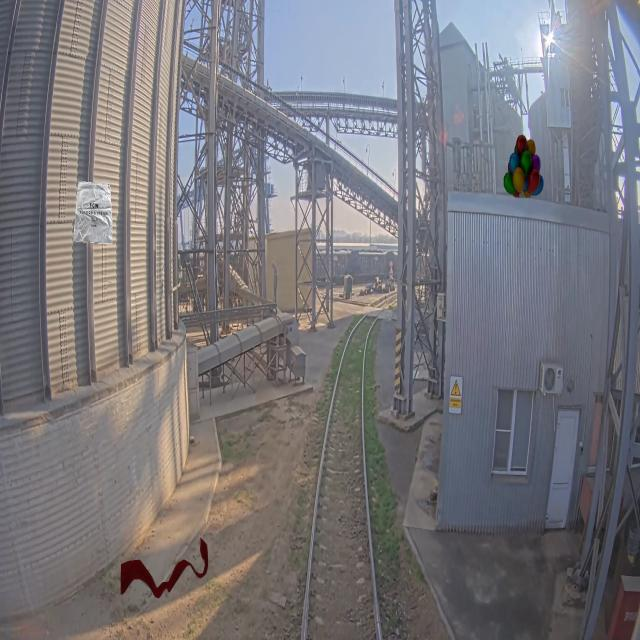balloon: (503, 134, 544, 198)
floating object: (119, 536, 209, 600)
plastic bag: (73, 180, 113, 244)
